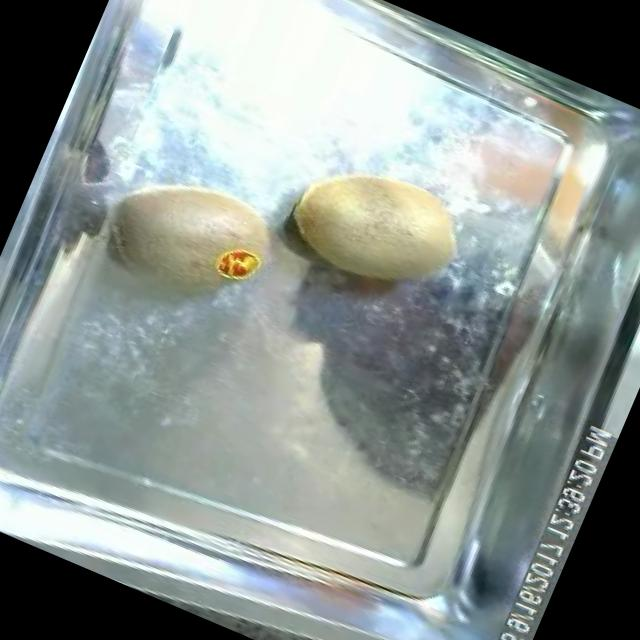Fruit: (78, 142, 296, 344), (270, 134, 482, 318)
